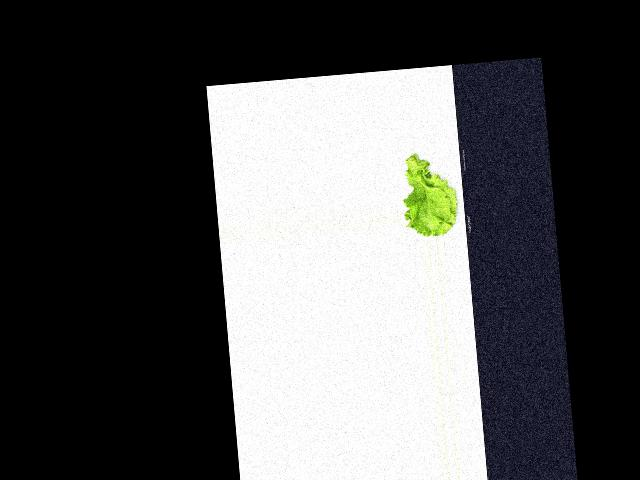lettuce: (398, 151, 464, 238)
